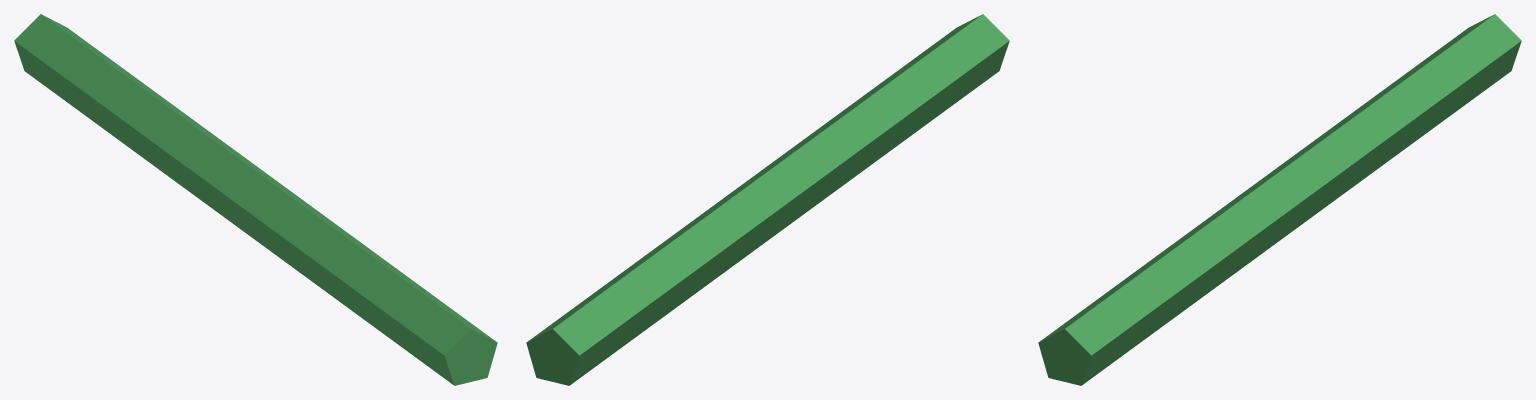
File: SM_FOL_Stick_01_A.obj
The picture shows the model from 3 angles, left to right: view 1: azimuth 30°, elevation 25°; view 2: azimuth 150°, elevation 25°; view 3: azimuth 330°, elevation 25°; orthographic projection.
Parts seen in each view (by area): view 1: SM_FOL_Stick_01_A; view 2: SM_FOL_Stick_01_A; view 3: SM_FOL_Stick_01_A.
Part boxes in pixels (bbox=[...]): SM_FOL_Stick_01_A: bbox=[14, 14, 497, 385]; SM_FOL_Stick_01_A: bbox=[526, 14, 1009, 385]; SM_FOL_Stick_01_A: bbox=[1038, 14, 1521, 385].
Size of the model in its own units: 5.71 by 5.43 by 79.81.
